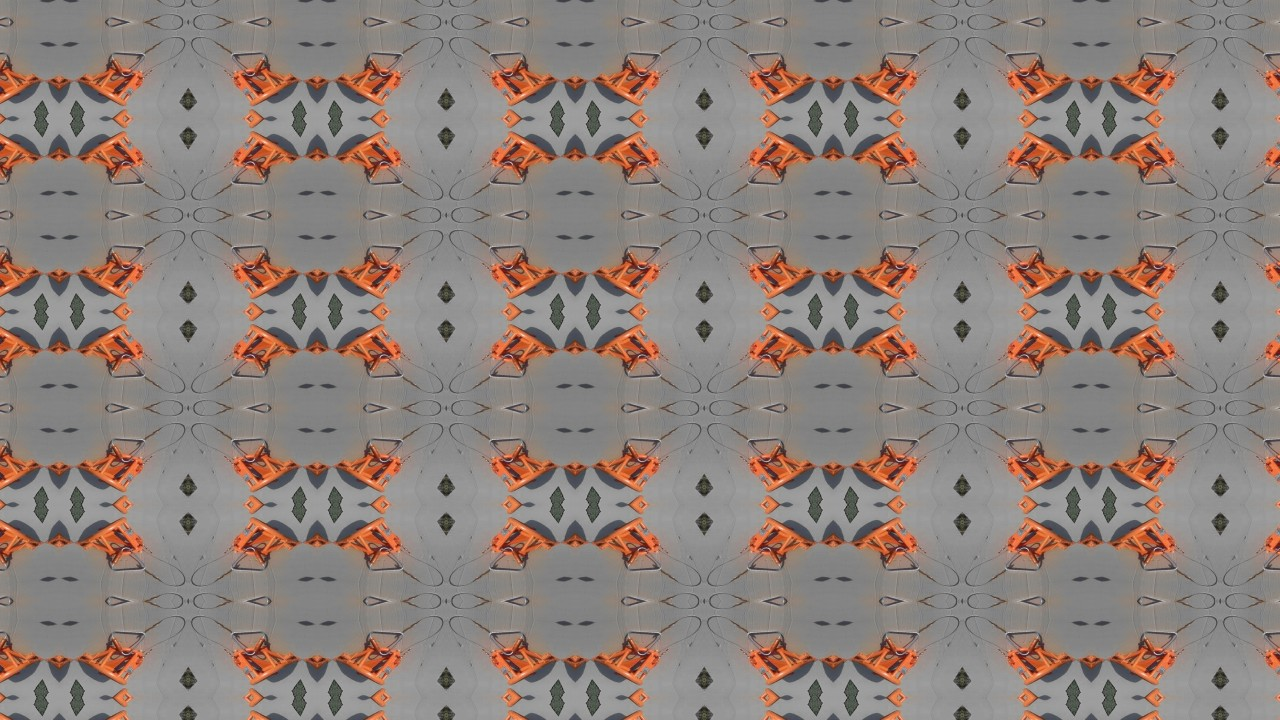chock: (71, 62, 145, 111), (228, 62, 302, 111), (330, 62, 404, 111), (487, 62, 561, 111), (589, 62, 663, 111), (746, 62, 820, 111), (848, 62, 922, 111), (1005, 62, 1079, 111), (1107, 62, 1181, 111), (71, 124, 145, 173), (228, 124, 302, 173), (330, 124, 404, 173), (487, 124, 561, 173), (589, 124, 663, 173), (746, 124, 820, 173), (848, 124, 922, 173), (1005, 124, 1079, 173), (1107, 124, 1181, 173), (71, 256, 145, 305), (228, 256, 302, 305), (330, 256, 404, 305), (487, 256, 561, 305), (589, 256, 663, 305), (746, 256, 820, 305), (848, 256, 922, 305), (1005, 256, 1079, 305), (1107, 256, 1181, 305), (71, 318, 145, 367), (228, 318, 302, 367), (330, 318, 404, 367), (487, 318, 561, 367), (589, 318, 663, 367), (746, 318, 820, 367), (848, 318, 922, 367), (1005, 318, 1079, 367), (1107, 318, 1181, 367), (71, 450, 145, 499), (228, 450, 302, 499), (330, 450, 404, 499), (487, 450, 561, 499), (589, 450, 663, 499), (746, 450, 820, 499), (848, 450, 922, 499), (1005, 450, 1079, 499), (1107, 450, 1181, 499), (71, 512, 145, 561), (228, 512, 302, 561), (330, 512, 404, 561), (487, 512, 561, 561), (589, 512, 663, 561), (746, 512, 820, 561), (848, 512, 922, 561), (1005, 512, 1079, 561), (1107, 512, 1181, 561), (71, 644, 145, 693), (228, 644, 302, 693), (330, 644, 404, 693), (487, 644, 561, 693), (589, 644, 663, 693), (746, 644, 820, 693), (848, 644, 922, 693), (1005, 644, 1079, 693), (1107, 644, 1181, 693), (0, 62, 43, 111), (0, 124, 43, 173), (0, 256, 43, 305), (0, 318, 43, 367), (0, 450, 43, 499), (0, 512, 43, 561), (0, 644, 43, 693), (71, 706, 145, 720), (228, 706, 302, 720), (330, 706, 404, 720), (487, 706, 561, 720), (589, 706, 663, 720), (746, 706, 820, 720), (848, 706, 922, 720), (1005, 706, 1079, 720), (1107, 706, 1181, 720), (1264, 62, 1280, 111), (1264, 124, 1280, 173), (1264, 256, 1280, 305), (1264, 318, 1280, 367), (1264, 450, 1280, 499), (1264, 512, 1280, 561), (1264, 644, 1280, 693), (0, 706, 43, 720)
